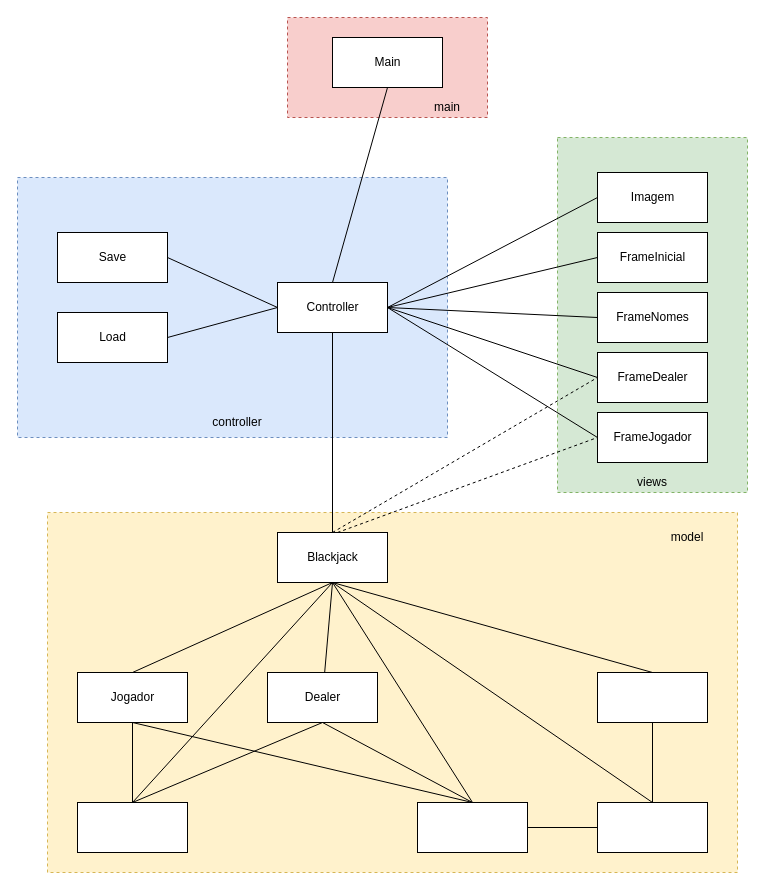
This 765x890 diagram has some shape labels left out. Here are the shapes that lost their labels. From the top down, the centre of each, then its label:
the point at 652,697: Baralho
the point at 132,827: Ficha
the point at 472,827: Mao
the point at 652,827: Carta
